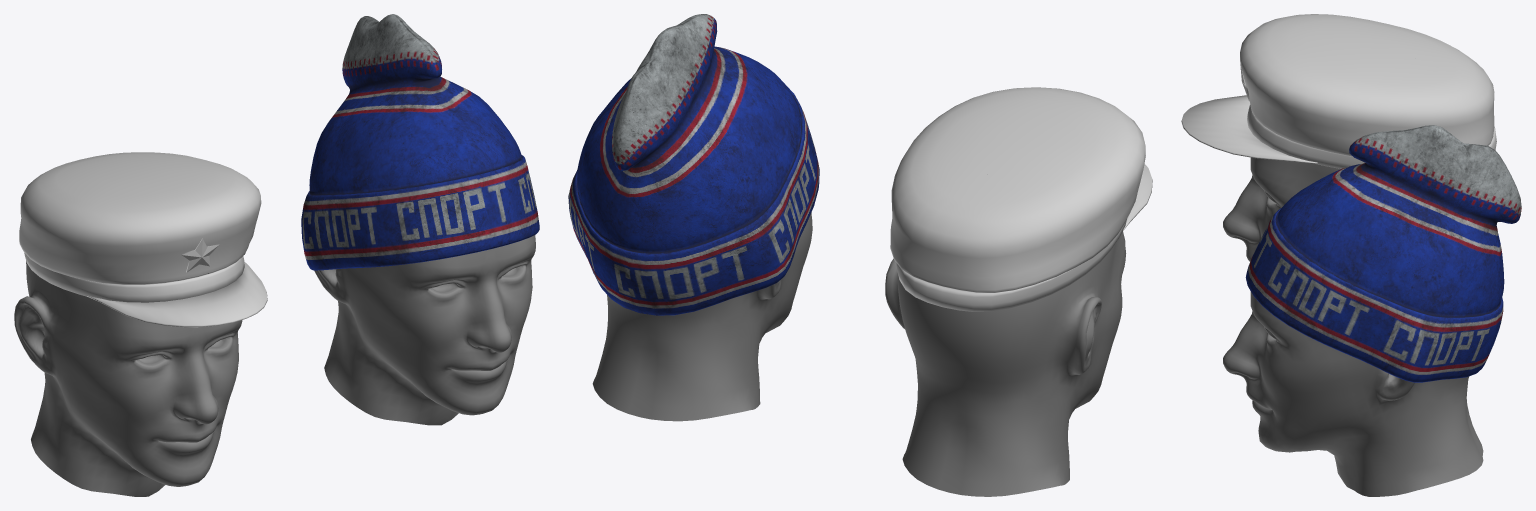
3 views of the same model, side by side, from view 1: azimuth 30°, elevation 25°; view 2: azimuth 150°, elevation 25°; view 3: azimuth 270°, elevation 25° (orthographic). The views are drawn at different scales.
Parts seen in each view (by area): view 1: Sport_Shapka, Shapka_China_Zvezda, Tops_Head_0, Tops001_Head_0; view 2: Sport_Shapka, Shapka_China_Zvezda, Tops_Head_0, Tops001_Head_0; view 3: Sport_Shapka, Shapka_China_Zvezda, Tops001_Head_0, Tops_Head_0.
Part boxes in pixels (box(x1,y1,x2,y2)): Sport_Shapka: box(301, 14, 539, 270); Shapka_China_Zvezda: box(19, 152, 267, 327); Tops_Head_0: box(14, 261, 242, 496); Tops001_Head_0: box(314, 235, 535, 425); Sport_Shapka: box(568, 14, 819, 315); Shapka_China_Zvezda: box(890, 87, 1152, 311); Tops_Head_0: box(885, 174, 1126, 496); Tops001_Head_0: box(592, 212, 812, 421); Sport_Shapka: box(1245, 125, 1521, 382); Shapka_China_Zvezda: box(1181, 14, 1496, 168); Tops001_Head_0: box(1223, 291, 1483, 496); Tops_Head_0: box(1223, 157, 1340, 261).
Size of the model in its own units: 18.5 by 13.51 by 11.66.
